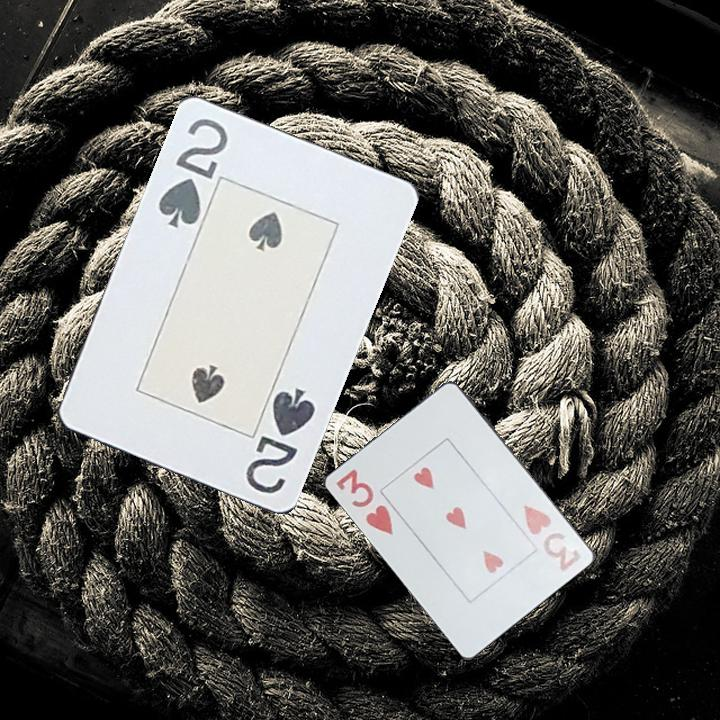2s: (154, 114, 231, 231), (241, 383, 318, 497)
3h: (332, 465, 397, 538), (520, 502, 585, 574)
